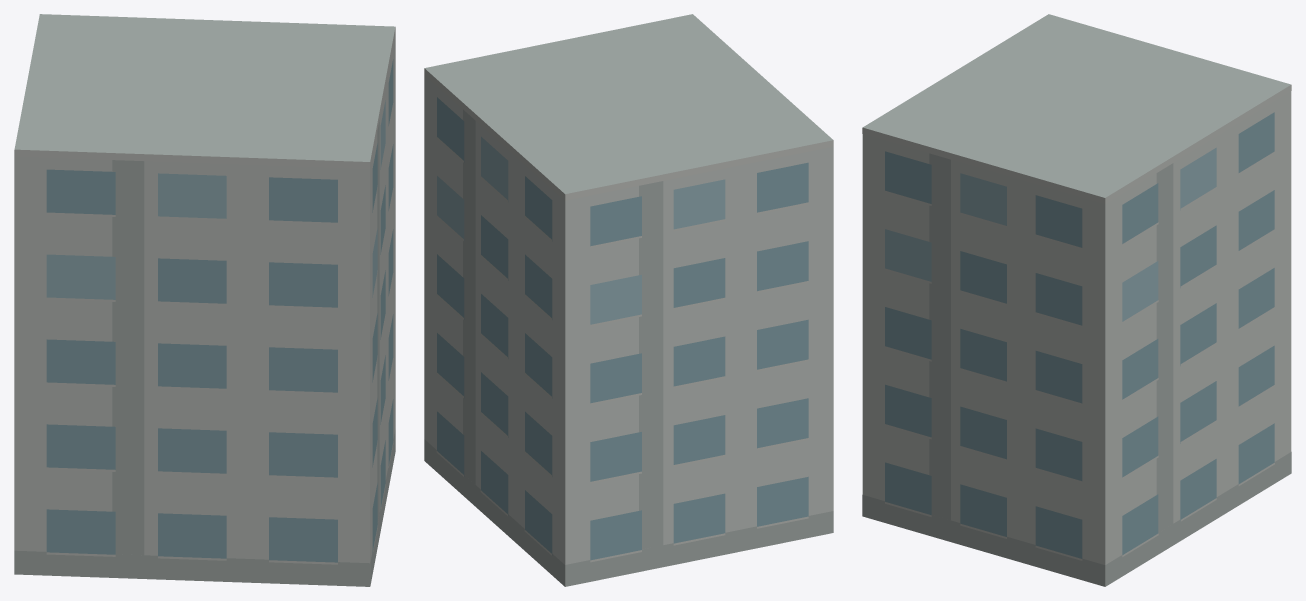
Rendered from survey-upis-32737298.glb.
3 renders of one model, left to right at view 1: azimuth 30°, elevation 25°; view 2: azimuth 150°, elevation 25°; view 3: azimuth 270°, elevation 25°, orthographic. The views are drawn at different scales.
Parts seen in each view (by area): view 1: survey-upis-32737298.tmp; view 2: survey-upis-32737298.tmp; view 3: survey-upis-32737298.tmp.
Part boxes in pixels (box(x1,y1,x2,y2)): survey-upis-32737298.tmp: box(14, 14, 395, 586); survey-upis-32737298.tmp: box(424, 14, 833, 586); survey-upis-32737298.tmp: box(862, 14, 1291, 586).
Bounding box in the file's own units: 14.92 × 14.7 × 14.7.
